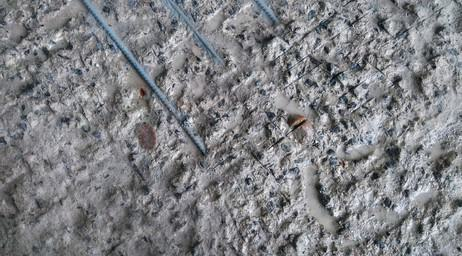Corrosion: (133, 121, 157, 151), (286, 113, 312, 132), (138, 86, 146, 98)
Exposed reinforcement: (80, 1, 207, 155), (164, 1, 226, 67), (253, 1, 280, 27)
